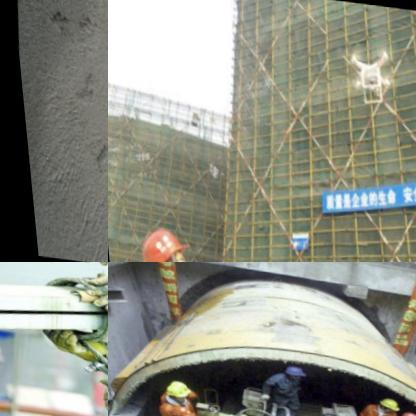helmet: (126, 220, 196, 262), (158, 376, 190, 401), (276, 361, 309, 382), (158, 401, 200, 416), (372, 392, 403, 412), (394, 403, 415, 416)
